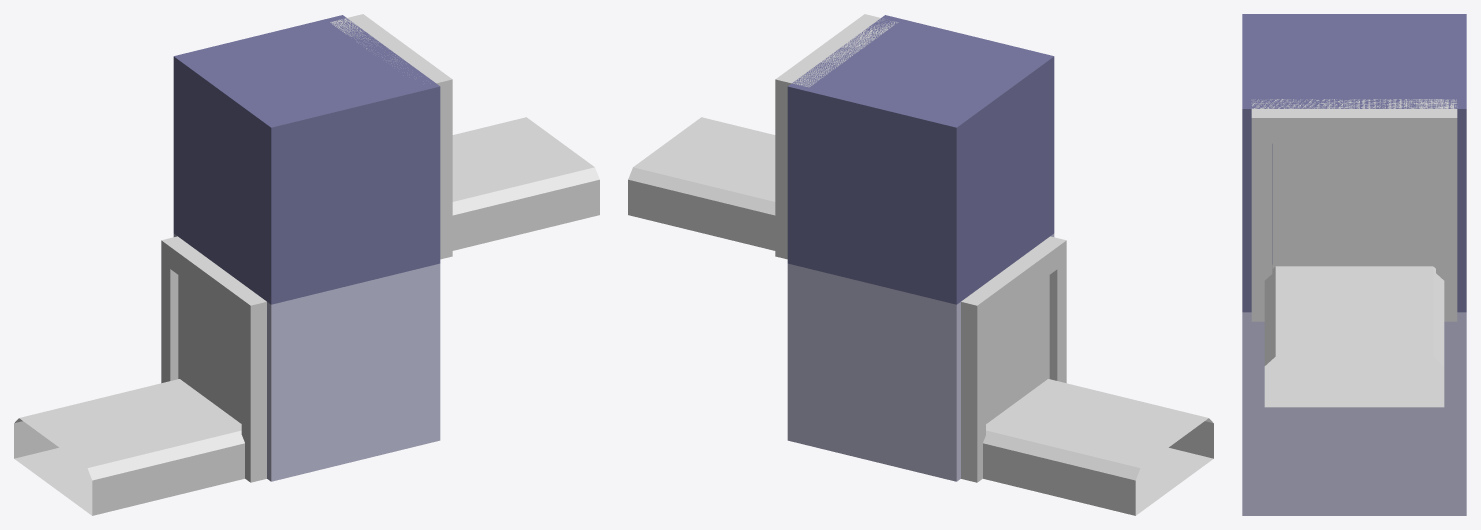
Rendered from unitele2.fbx.
The picture shows the model from 3 angles, left to right: view 1: azimuth 30°, elevation 25°; view 2: azimuth 150°, elevation 25°; view 3: azimuth 270°, elevation 25°; orthographic projection. The views are drawn at different scales.
Visible parts, largest first — view 1: SmallStorage_UnitElevator1; view 2: SmallStorage_UnitElevator1; view 3: SmallStorage_UnitElevator1.
Part boxes in pixels (x1,y1,x2,y2): SmallStorage_UnitElevator1: [14, 14, 599, 515]; SmallStorage_UnitElevator1: [628, 14, 1213, 515]; SmallStorage_UnitElevator1: [1242, 14, 1466, 515].
Size of the model in its own units: 600 by 400 by 200.
